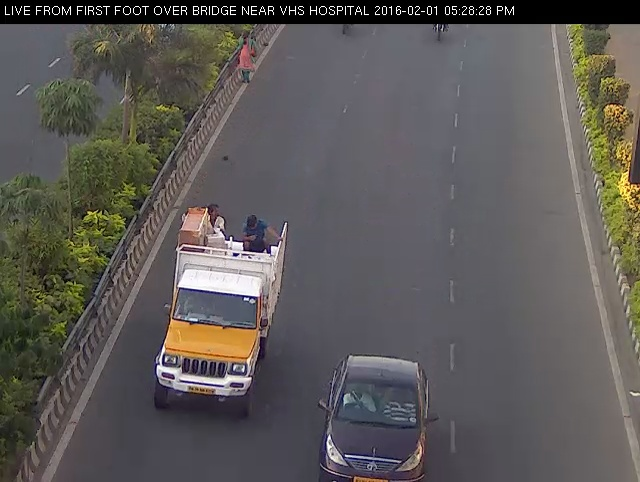Auto: (155, 200, 287, 432)
Car: (310, 349, 442, 482)
Person: (228, 23, 264, 90)
